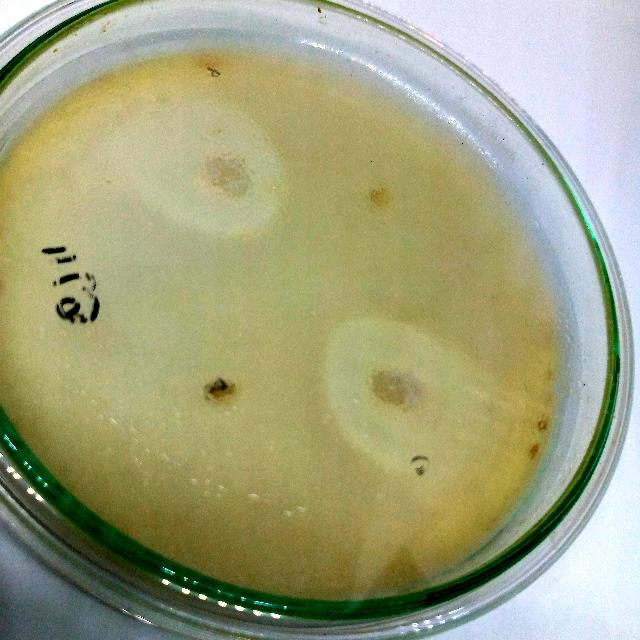colony: (367, 359, 428, 418), (196, 150, 256, 202), (199, 366, 237, 408), (364, 178, 398, 212)
